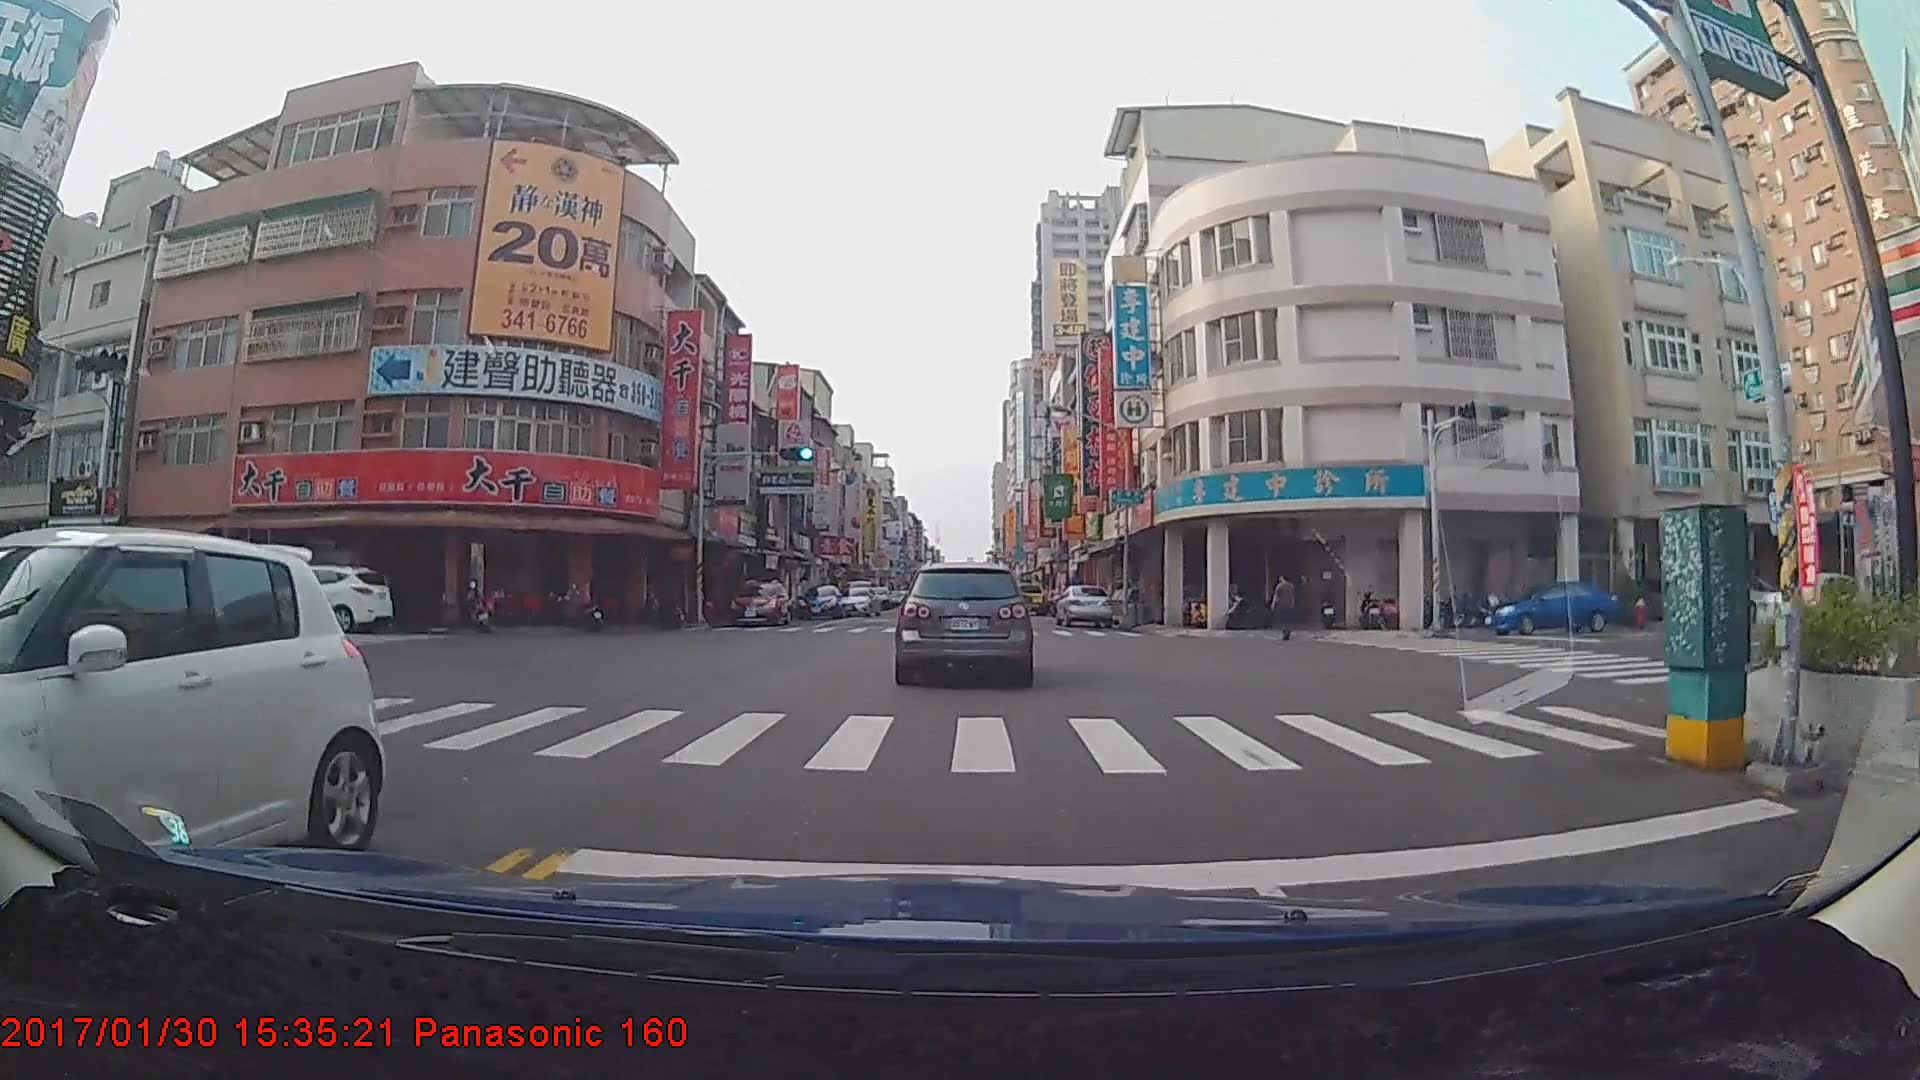pedestrian: (1272, 574, 1300, 647)
vehicle: (0, 523, 384, 921), (894, 560, 1033, 686), (236, 561, 392, 634), (1483, 582, 1614, 638), (729, 577, 790, 627), (1051, 581, 1114, 625), (797, 581, 845, 617), (835, 586, 881, 615), (1010, 581, 1047, 615)
